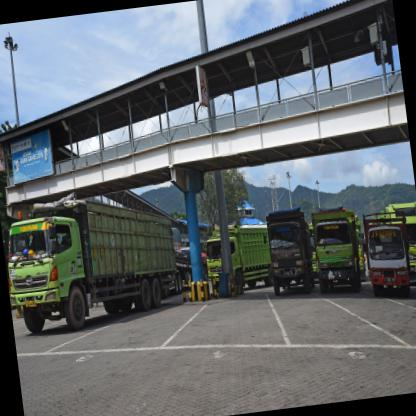truck: (1, 213, 95, 338), (363, 219, 415, 301), (265, 218, 315, 298), (315, 217, 362, 298)
